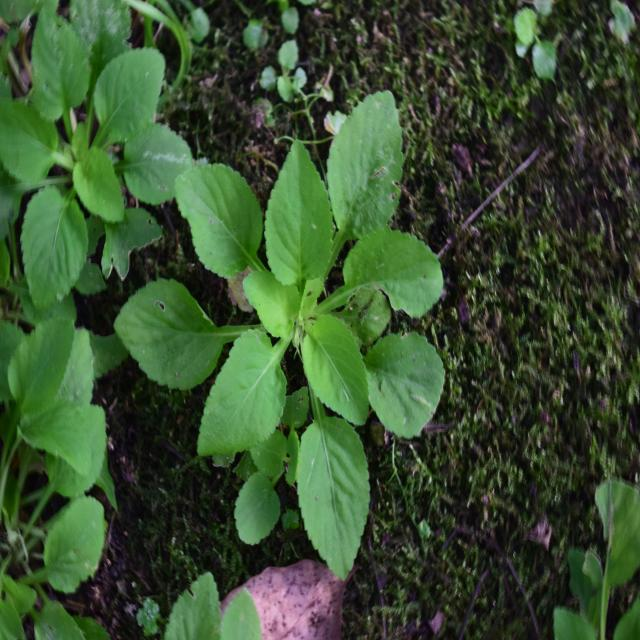Viola: (177, 112, 439, 568)
